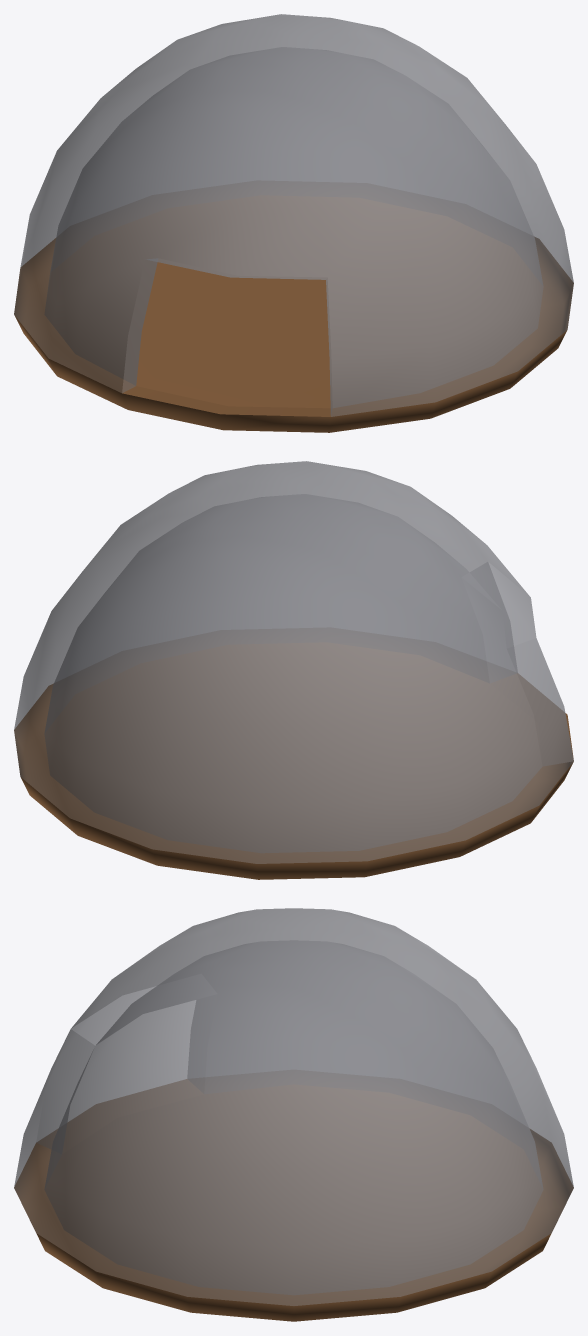
File: bubbleHut.fbx
3 renders of one model, top to bottom at view 1: azimuth 30°, elevation 25°; view 2: azimuth 150°, elevation 25°; view 3: azimuth 270°, elevation 25°, orthographic.
Visible parts, largest first — view 1: BubbleHut; view 2: BubbleHut; view 3: BubbleHut.
Boxes of the visible parts, <box> form: BubbleHut: <box>14,14,573,432</box>; BubbleHut: <box>14,461,573,879</box>; BubbleHut: <box>14,908,573,1321</box>.
Size of the model in its own units: 663 by 367 by 663.
